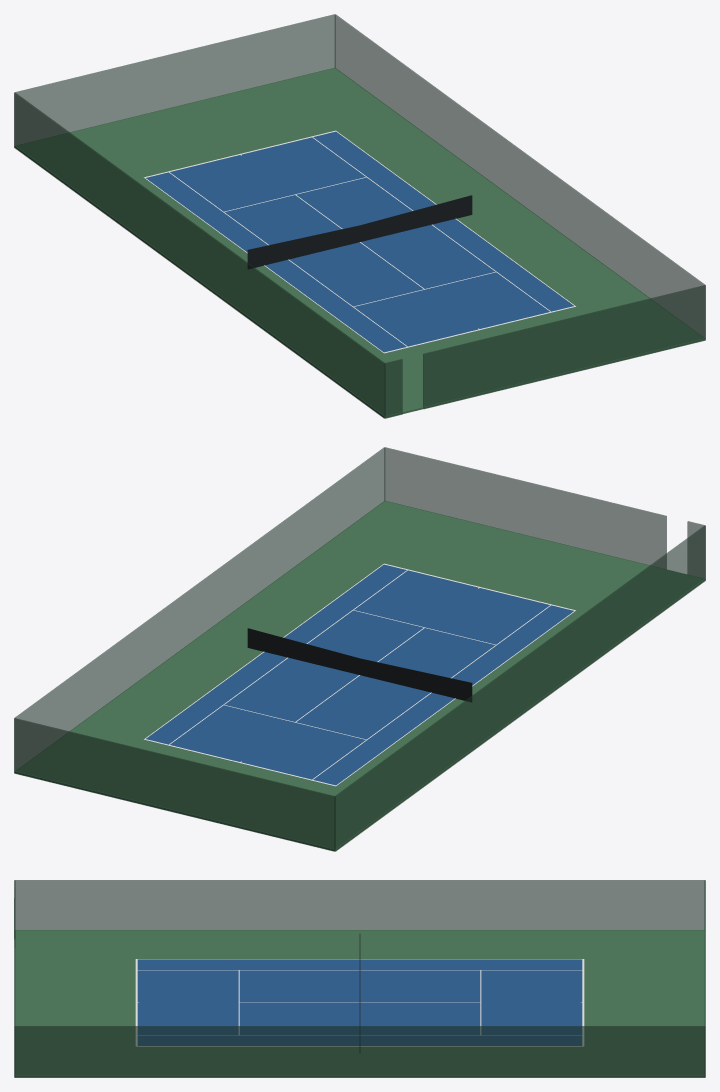
File: tennis-court.glb
3 renders of one model, top to bottom at view 1: azimuth 30°, elevation 25°; view 2: azimuth 150°, elevation 25°; view 3: azimuth 270°, elevation 25°, orthographic. The views are drawn at different scales.
Visible parts, largest first — view 1: Tennis court | Fence mesh, Tennis court | Surround, Tennis court | Court, Tennis court | Net, Tennis court | Lines; view 2: Tennis court | Fence mesh, Tennis court | Surround, Tennis court | Court, Tennis court | Net, Tennis court | Lines; view 3: Tennis court | Fence mesh, Tennis court | Surround, Tennis court | Court, Tennis court | Lines.
Part boxes in pixels (x1,y1,x2,y2): Tennis court | Fence mesh: [14, 14, 705, 418]; Tennis court | Surround: [14, 68, 705, 418]; Tennis court | Court: [146, 131, 573, 352]; Tennis court | Net: [247, 195, 472, 269]; Tennis court | Lines: [144, 130, 575, 353]; Tennis court | Fence mesh: [14, 447, 705, 851]; Tennis court | Surround: [14, 501, 705, 851]; Tennis court | Court: [146, 564, 573, 785]; Tennis court | Net: [247, 628, 472, 702]; Tennis court | Lines: [144, 563, 575, 786]; Tennis court | Fence mesh: [14, 880, 705, 1077]; Tennis court | Surround: [14, 930, 705, 1077]; Tennis court | Court: [137, 959, 582, 1045]; Tennis court | Lines: [135, 959, 584, 1046].
Size of the model in its own units: 18.37 by 3 by 36.66.
